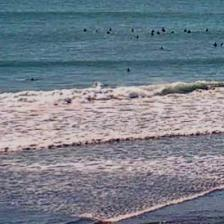surfer: (129, 36, 138, 40), (126, 68, 130, 72), (83, 28, 87, 32), (161, 28, 165, 32), (183, 28, 187, 32), (212, 42, 216, 46), (220, 42, 224, 46), (31, 78, 38, 80), (109, 27, 112, 31), (106, 31, 110, 34), (156, 31, 159, 35), (170, 31, 174, 34), (188, 29, 191, 33), (206, 28, 209, 32), (160, 47, 164, 50), (151, 32, 153, 36), (132, 29, 134, 32), (151, 30, 154, 32), (96, 30, 98, 32)
